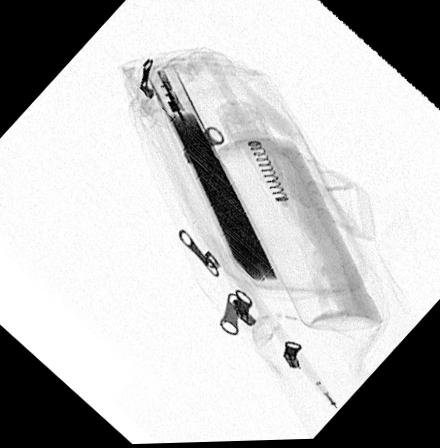Powerbank: (143, 66, 282, 289)
